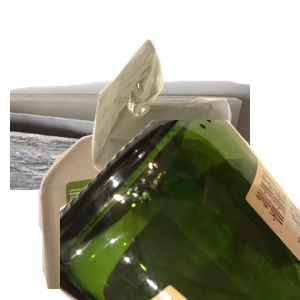glass: (60, 120, 300, 300)
paper: (10, 77, 250, 257)
plastic: (36, 120, 265, 300)
trash: (89, 37, 300, 213)
